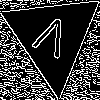V: (28, 12, 73, 68)
